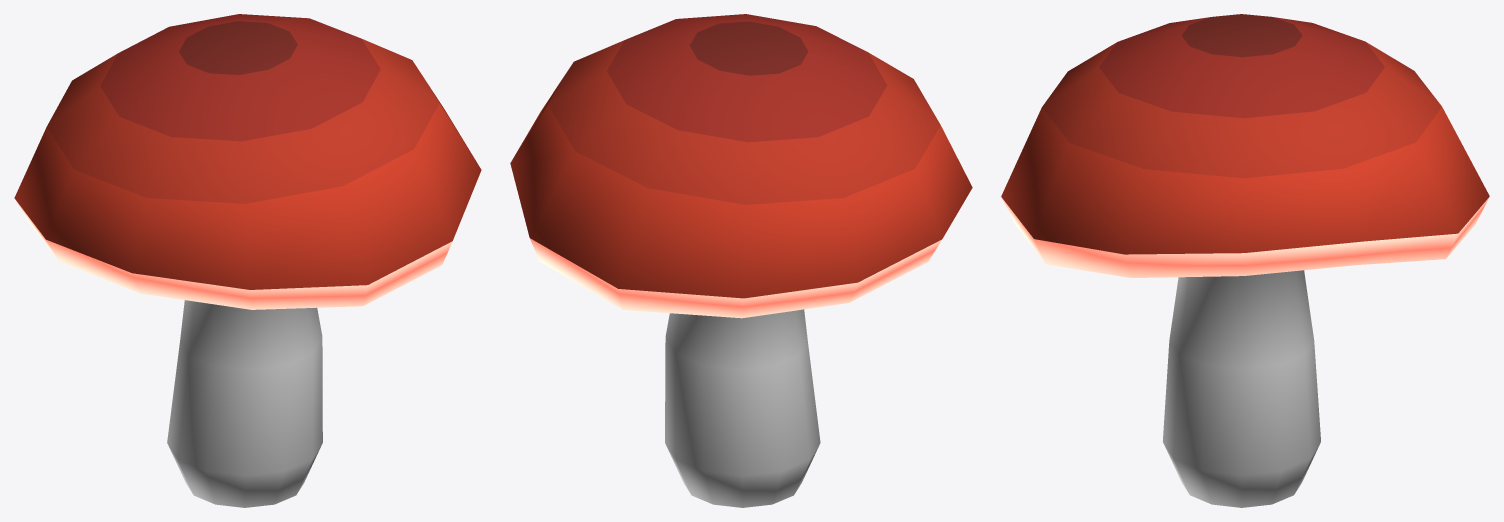
The model's file is mushroomRed.glb.
3 renders of one model, left to right at view 1: azimuth 30°, elevation 25°; view 2: azimuth 150°, elevation 25°; view 3: azimuth 270°, elevation 25°, orthographic.
Visible parts, largest first — view 1: MushroomRed; view 2: MushroomRed; view 3: MushroomRed.
Part boxes in pixels (box(x1,y1,x2,y2)): MushroomRed: box(14, 14, 481, 507); MushroomRed: box(510, 14, 972, 507); MushroomRed: box(1001, 14, 1489, 507).
Bounding box in the file's own units: 0.5181 × 0.5445 × 0.5389.
2 materials, 1 textured.
